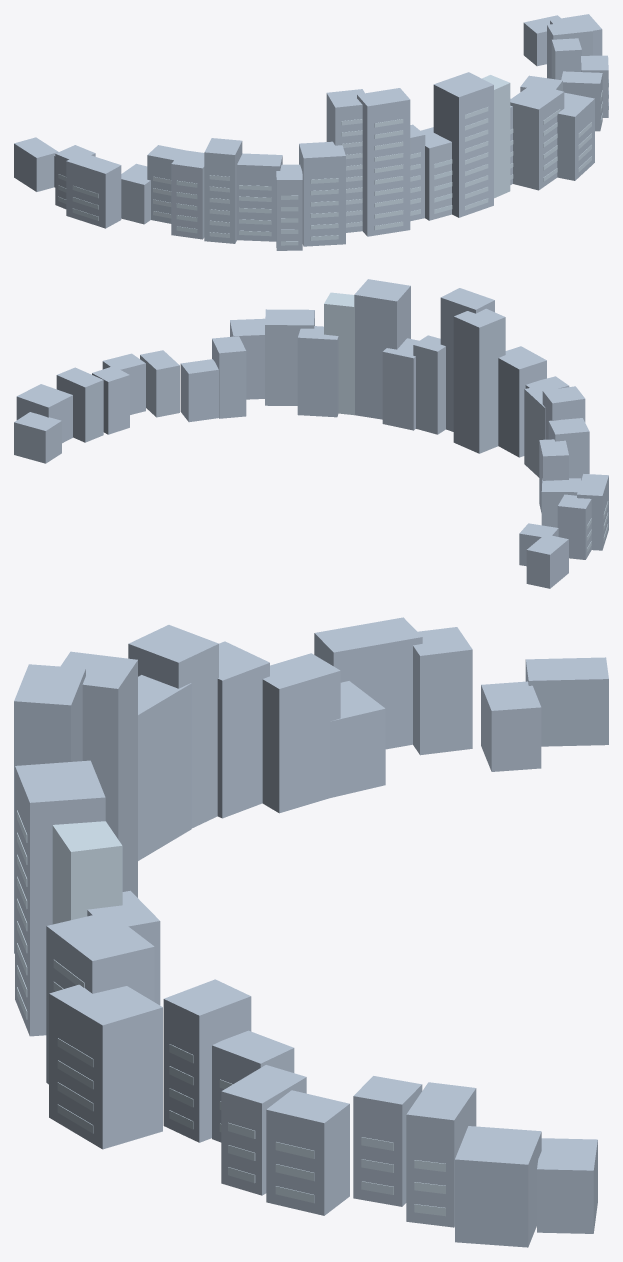
The model's file is city-band.glb.
The picture shows the model from 3 angles, top to bottom: view 1: azimuth 30°, elevation 25°; view 2: azimuth 150°, elevation 25°; view 3: azimuth 270°, elevation 25°; orthographic projection. The views are drawn at different scales.
Visible parts, largest first — view 1: Building_15, Building_12, Building_18, Building_10, Building_03, Building_07, Building_08, Building_11, Building_19, Building_06, Building_16, Building_09 (+13 smaller); view 2: Building_11, Building_15, Building_17, Building_18, Building_10, Building_13, Building_14, Building_16, Building_25, Building_20, Building_21, Building_12 (+15 smaller); view 3: Building_19, Building_15, Building_05, Building_11, Building_26, Building_08, Building_20, Building_23, Building_07, Building_03, Building_06, Building_18 (+12 smaller).
Part boxes in pixels (bbox=[...]): Building_15: bbox=[433, 72, 493, 217]; Building_12: bbox=[357, 88, 410, 236]; Building_18: bbox=[510, 84, 564, 190]; Building_10: bbox=[299, 141, 345, 246]; Building_03: bbox=[66, 152, 121, 228]; Building_07: bbox=[204, 138, 242, 243]; Building_08: bbox=[237, 153, 282, 241]; Building_11: bbox=[326, 89, 364, 232]; Building_19: bbox=[557, 92, 594, 180]; Building_06: bbox=[171, 150, 204, 239]; Building_16: bbox=[482, 75, 510, 198]; Building_09: bbox=[276, 164, 302, 250]; Building_11: bbox=[453, 308, 505, 453]; Building_15: bbox=[354, 279, 410, 419]; Building_17: bbox=[297, 326, 338, 417]; Building_18: bbox=[265, 309, 314, 405]; Building_10: bbox=[498, 346, 546, 457]; Building_13: bbox=[413, 335, 445, 434]; Building_14: bbox=[382, 338, 419, 430]; Building_16: bbox=[324, 292, 354, 415]; Building_25: bbox=[56, 367, 103, 442]; Building_20: bbox=[212, 336, 246, 418]; Building_21: bbox=[180, 359, 218, 422]; Building_12: bbox=[440, 288, 494, 431]; Building_19: bbox=[49, 984, 162, 1149]; Building_15: bbox=[15, 760, 105, 1036]; Building_05: bbox=[262, 653, 340, 813]; Building_11: bbox=[60, 651, 137, 897]; Building_26: bbox=[455, 1126, 541, 1247]; Building_08: bbox=[138, 675, 191, 860]; Building_20: bbox=[163, 979, 251, 1142]; Building_23: bbox=[266, 1090, 349, 1215]; Building_07: bbox=[128, 625, 218, 828]; Building_03: bbox=[314, 617, 422, 749]; Building_06: bbox=[217, 641, 269, 818]; Building_18: bbox=[46, 911, 154, 1084].
Bounding box in the file's own units: 153 × 34.28 × 73.27.
